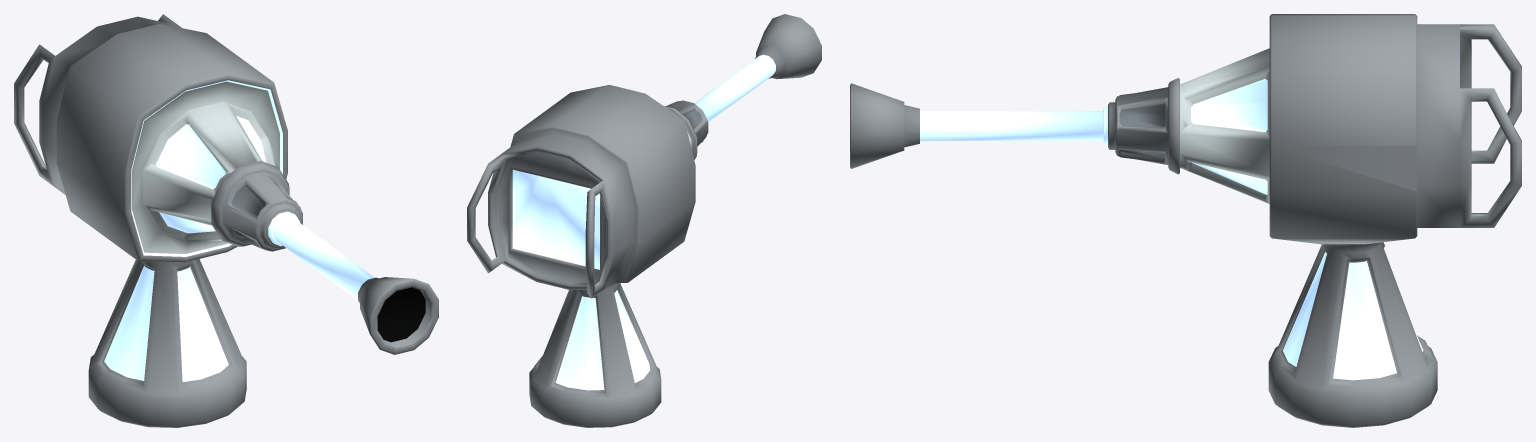
File: CanonBall_rotula.fbx
3 renders of one model, left to right at view 1: azimuth 30°, elevation 25°; view 2: azimuth 150°, elevation 25°; view 3: azimuth 270°, elevation 25°, orthographic. The views are drawn at different scales.
Parts seen in each view (by area): view 1: Canon, Sphere; view 2: Canon, Sphere; view 3: Canon, Sphere.
Part boxes in pixels (x1,y1,x2,y2): Canon: (14,14,438,354); Sphere: (88,259,246,427); Canon: (467,14,821,298); Sphere: (529,283,661,427); Canon: (850,14,1521,244); Sphere: (1268,242,1437,427).
Bounding box in the file's own units: 359 × 726 × 1205.
